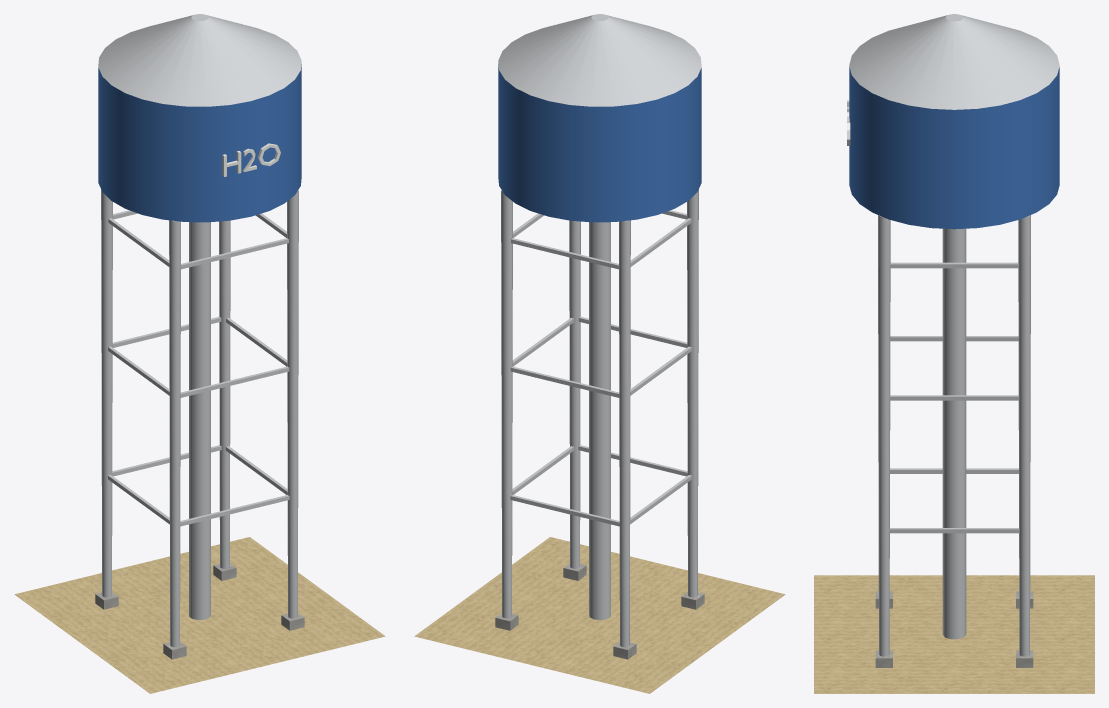
The model's file is tower.gltf.
The picture shows the model from 3 angles, left to right: view 1: azimuth 30°, elevation 25°; view 2: azimuth 150°, elevation 25°; view 3: azimuth 270°, elevation 25°; orthographic projection. The views are drawn at different scales.
Visible parts, largest first — view 1: tower; view 2: tower; view 3: tower.
Boxes of the visible parts, x1,y1,x2,y2 form: tower: [14, 14, 385, 693]; tower: [414, 14, 785, 693]; tower: [814, 14, 1094, 693].
Size of the model in its own units: 1.92 by 4.66 by 1.92.
5 materials, 2 textured.
